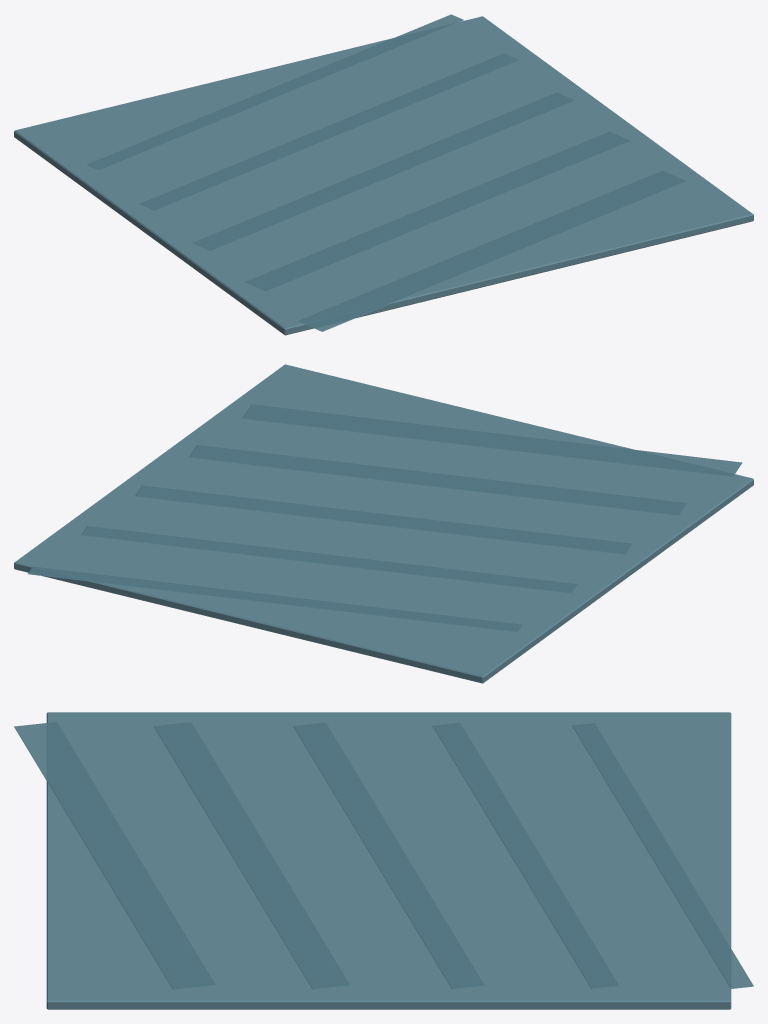
The model's file is offshore-oil-rig-and-platform-sea-surface-module-07a2bd92__37013.glb.
3 views of the same model, one above another, from view 1: azimuth 30°, elevation 25°; view 2: azimuth 150°, elevation 25°; view 3: azimuth 270°, elevation 25° (orthographic). The views are drawn at different scales.
Visible parts, largest first — view 1: sea-surface-module; view 2: sea-surface-module; view 3: sea-surface-module.
Boxes of the visible parts, x1,y1,x2,y2 form: sea-surface-module: (14,14,753,335); sea-surface-module: (14,364,753,683); sea-surface-module: (14,712,753,1009).
Size of the model in its own units: 20 by 0.3192 by 21.61.
